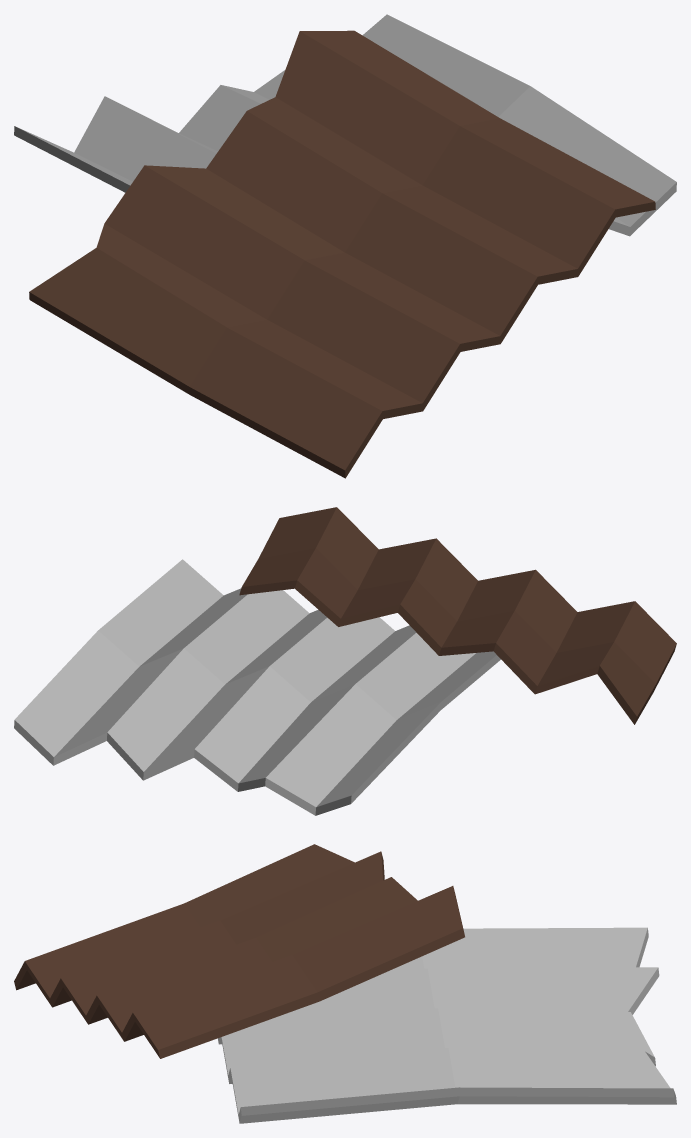
Rendered from PilaDeChapa.fbx.
3 views of the same model, one above another, from view 1: azimuth 30°, elevation 25°; view 2: azimuth 150°, elevation 25°; view 3: azimuth 270°, elevation 25° (orthographic). The views are drawn at different scales.
Visible parts, largest first — view 1: PilaBasura_Grande.002; view 2: PilaBasura_Grande.002; view 3: PilaBasura_Grande.002.
Part boxes in pixels (x1,y1,x2,y2): PilaBasura_Grande.002: (14, 14, 676, 478); PilaBasura_Grande.002: (14, 507, 676, 815); PilaBasura_Grande.002: (14, 844, 676, 1123).
Bounding box in the file's own units: 1.38 × 0.482 × 1.51.
